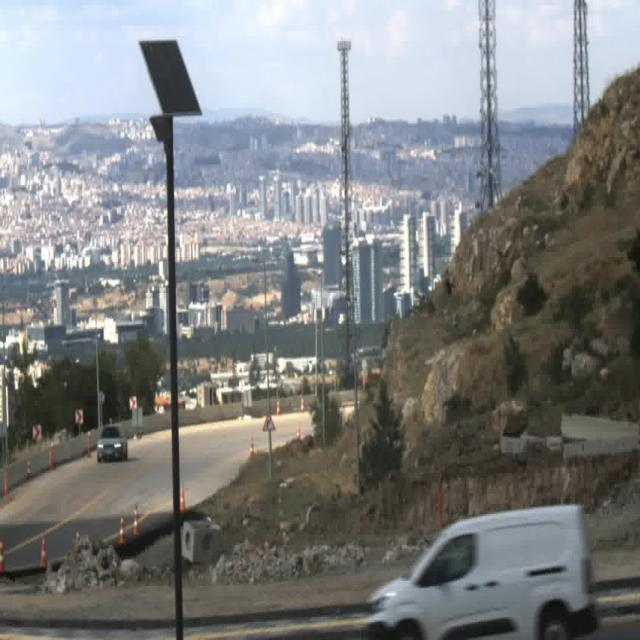Car: (362, 499, 591, 640), (97, 421, 130, 461)
